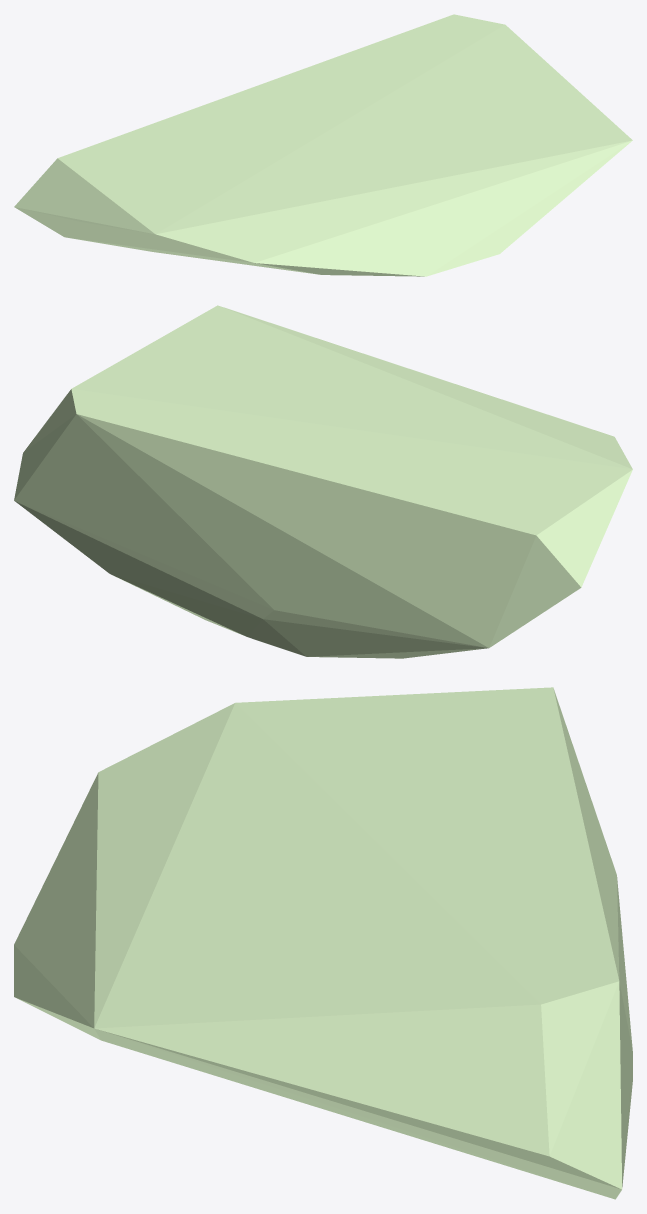
File: kuka_URDF_robot_base_coll_11.dae
3 renders of one model, top to bottom at view 1: azimuth 30°, elevation 25°; view 2: azimuth 150°, elevation 25°; view 3: azimuth 270°, elevation 25°, orthographic. The views are drawn at different scales.
Visible parts, largest first — view 1: Node_0000020FCC592640; view 2: Node_0000020FCC592640; view 3: Node_0000020FCC592640.
Boxes of the visible parts, box(x1,y1,x2,y2) form: Node_0000020FCC592640: box(14, 14, 632, 276); Node_0000020FCC592640: box(14, 305, 632, 658); Node_0000020FCC592640: box(14, 687, 632, 1199).
Size of the model in its own units: 0.1497 by 0.0477 by 0.0901.
